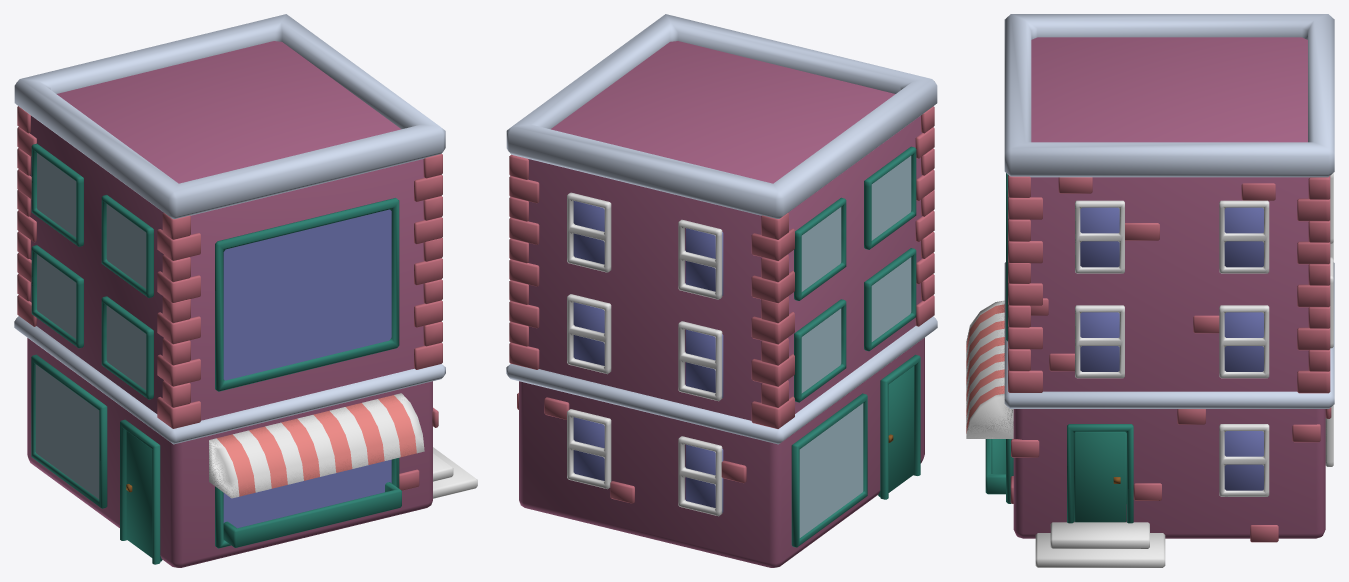
The model's file is Building_Pink.fbx.
The picture shows the model from 3 angles, left to right: view 1: azimuth 30°, elevation 25°; view 2: azimuth 150°, elevation 25°; view 3: azimuth 270°, elevation 25°; orthographic projection. The views are drawn at different scales.
Parts seen in each view (by area): view 1: Plane.025, Plane.026, Cube.002, Circle.001, Plane.043, Plane.048, Cube.007, Cube.003, Plane.051, Plane.052, Plane.049, Cube.004 (+25 smaller); view 2: Plane.025, Plane.026, Plane.043, Cube.007, Plane.052, Plane.049, Cube.006, Cube.001, Cube.005, Cube.004, Plane.050, Plane.040 (+30 smaller); view 3: Plane.025, Plane.026, Plane.043, Circle.001, Plane.001, Plane.028, Plane.029, Plane.014, Plane.016, Plane.012, Plane.015, Plane.013 (+37 smaller).
Part boxes in pixels (bbox=[...]): Plane.025: bbox=[27, 41, 432, 567]; Plane.026: bbox=[14, 14, 445, 219]; Cube.002: bbox=[223, 209, 391, 380]; Circle.001: bbox=[209, 393, 424, 498]; Plane.043: bbox=[14, 316, 445, 444]; Plane.048: bbox=[215, 198, 399, 391]; Cube.007: bbox=[35, 364, 99, 499]; Cube.003: bbox=[223, 459, 391, 528]; Plane.051: bbox=[223, 482, 401, 547]; Plane.052: bbox=[126, 431, 162, 561]; Plane.049: bbox=[31, 354, 107, 508]; Cube.004: bbox=[106, 305, 146, 390]; Plane.025: bbox=[519, 41, 924, 567]; Plane.026: bbox=[506, 14, 937, 218]; Plane.043: bbox=[506, 316, 937, 444]; Cube.007: bbox=[799, 403, 863, 537]; Plane.052: bbox=[878, 366, 914, 496]; Plane.049: bbox=[791, 393, 867, 547]; Cube.006: bbox=[801, 308, 841, 393]; Cube.001: bbox=[871, 156, 911, 240]; Cube.005: bbox=[801, 207, 841, 291]; Cube.004: bbox=[871, 257, 911, 341]; Plane.050: bbox=[880, 354, 920, 499]; Plane.040: bbox=[678, 219, 722, 299]; Plane.025: bbox=[1013, 37, 1325, 538]; Plane.026: bbox=[1004, 14, 1334, 177]; Plane.043: bbox=[1004, 262, 1334, 408]; Circle.001: bbox=[966, 300, 1013, 438]; Plane.001: bbox=[1074, 431, 1126, 522]; Plane.028: bbox=[1035, 533, 1165, 567]; Plane.029: bbox=[1050, 522, 1149, 548]; Plane.014: bbox=[1224, 207, 1263, 267]; Plane.016: bbox=[1080, 207, 1119, 267]; Plane.012: bbox=[1224, 431, 1263, 490]; Plane.015: bbox=[1080, 312, 1119, 371]; Plane.013: bbox=[1224, 312, 1263, 371].
Bounding box in the file's own units: 996 × 1134 × 956.
